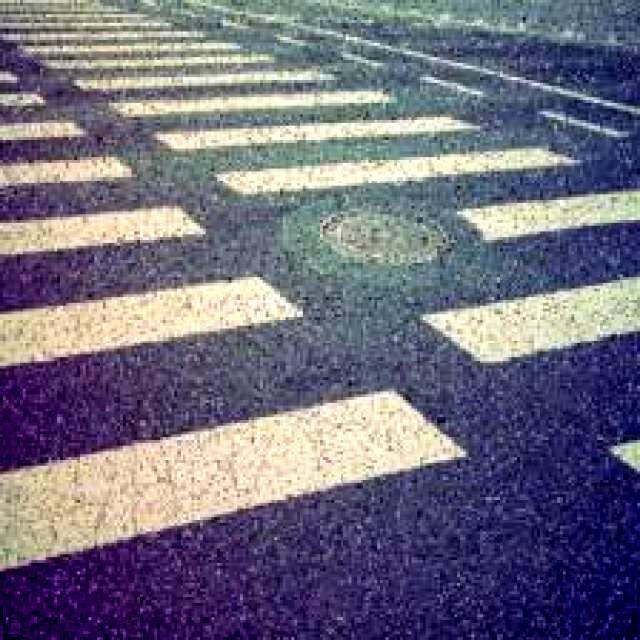crosswalk: (1, 0, 638, 623)
